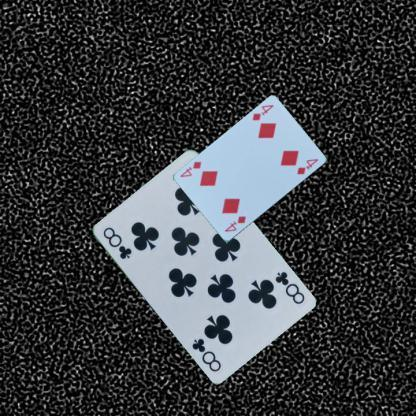4d: (222, 214, 247, 234), (250, 102, 275, 122)
8c: (272, 268, 306, 306), (100, 224, 133, 261)
